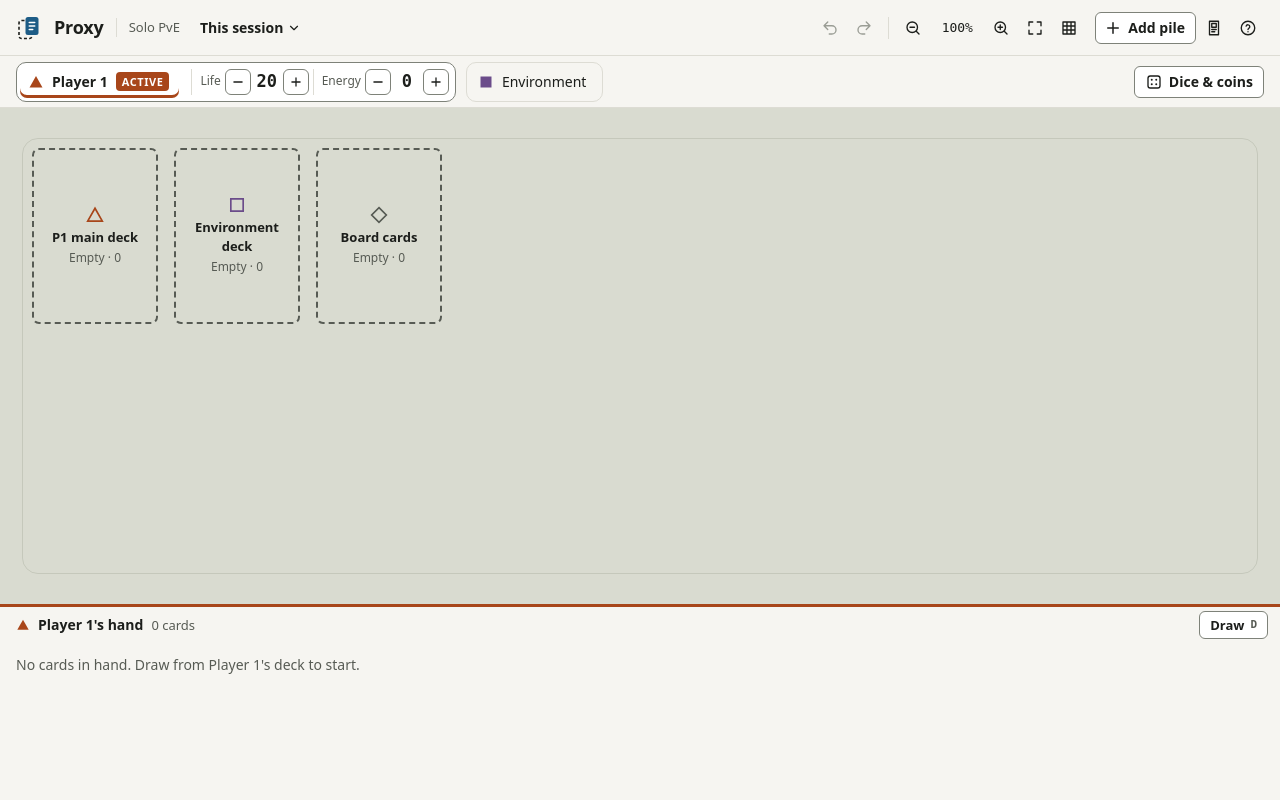
Test: FS-2 opening the Formats screen › Edit formats… opens it, and Back to New session returns to the dialog on the same choice
Click the button "This session": coordinates (251, 28) [192,12,310,44]
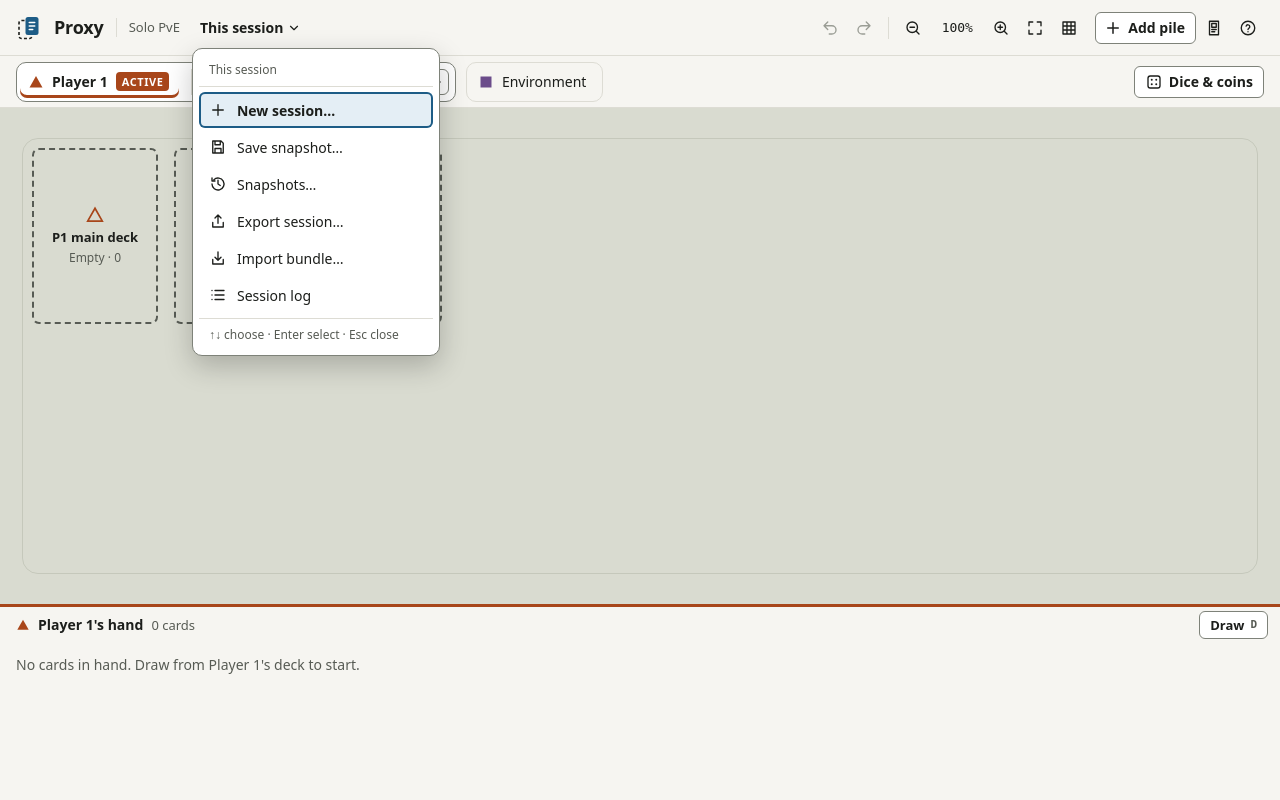
Click the menu item "New session…": coordinates (316, 110) [199,92,433,128]
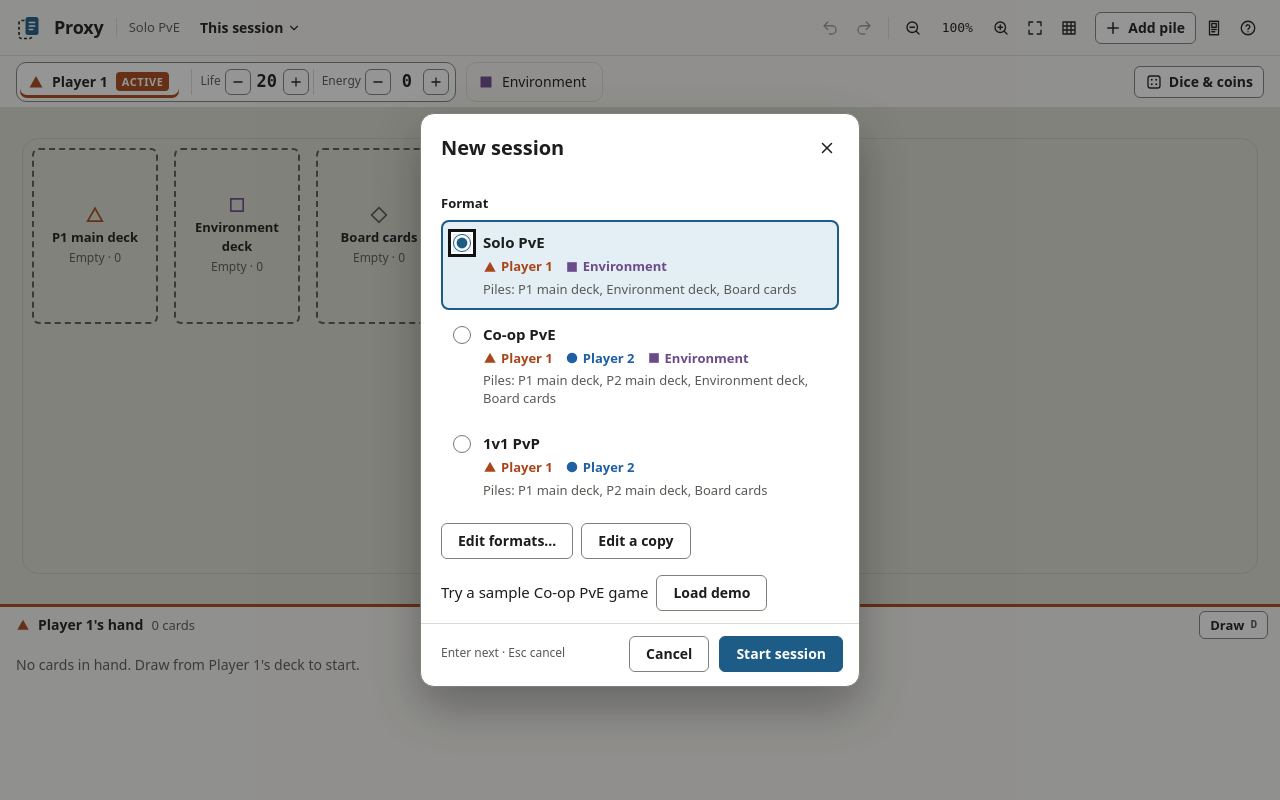
Click the radio button labelled "Co-op PvE": coordinates (462, 335) [453,326,471,344]
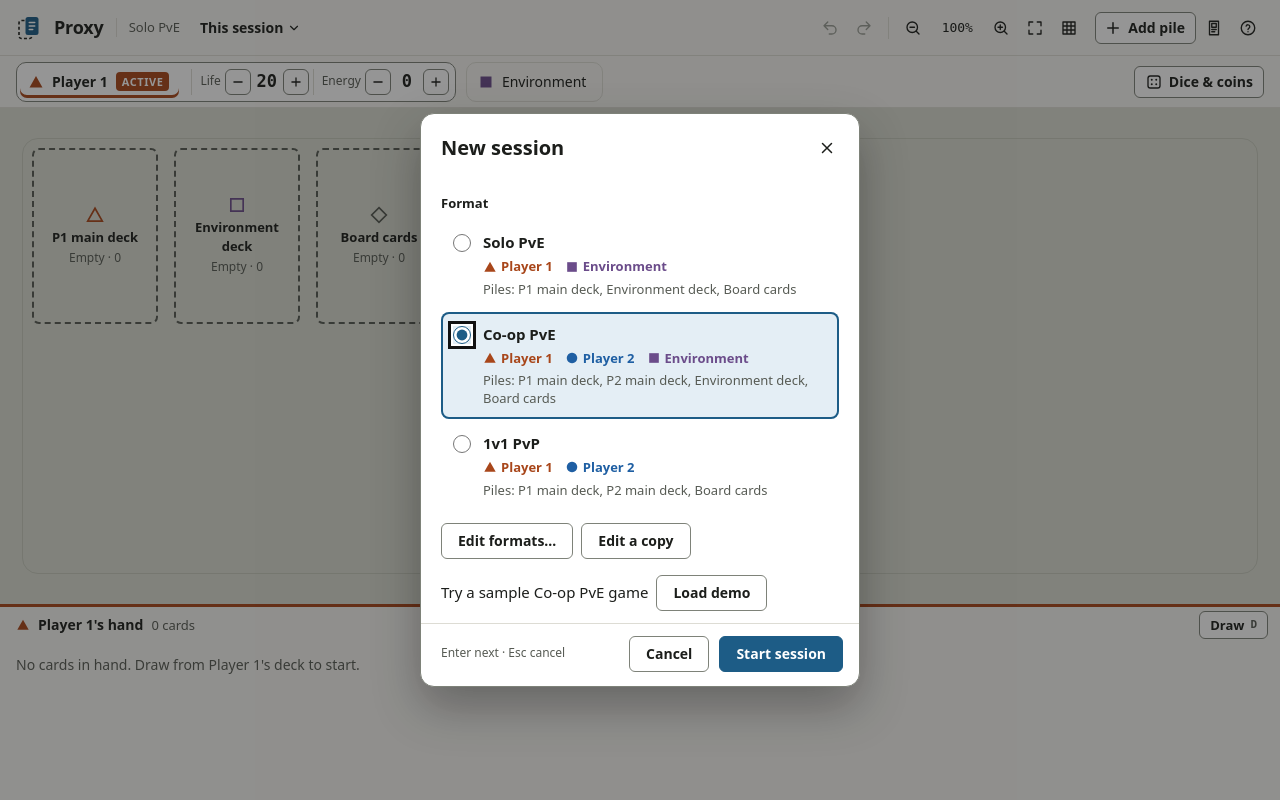
Click the button "Edit formats…": coordinates (507, 541) [441,523,573,559]
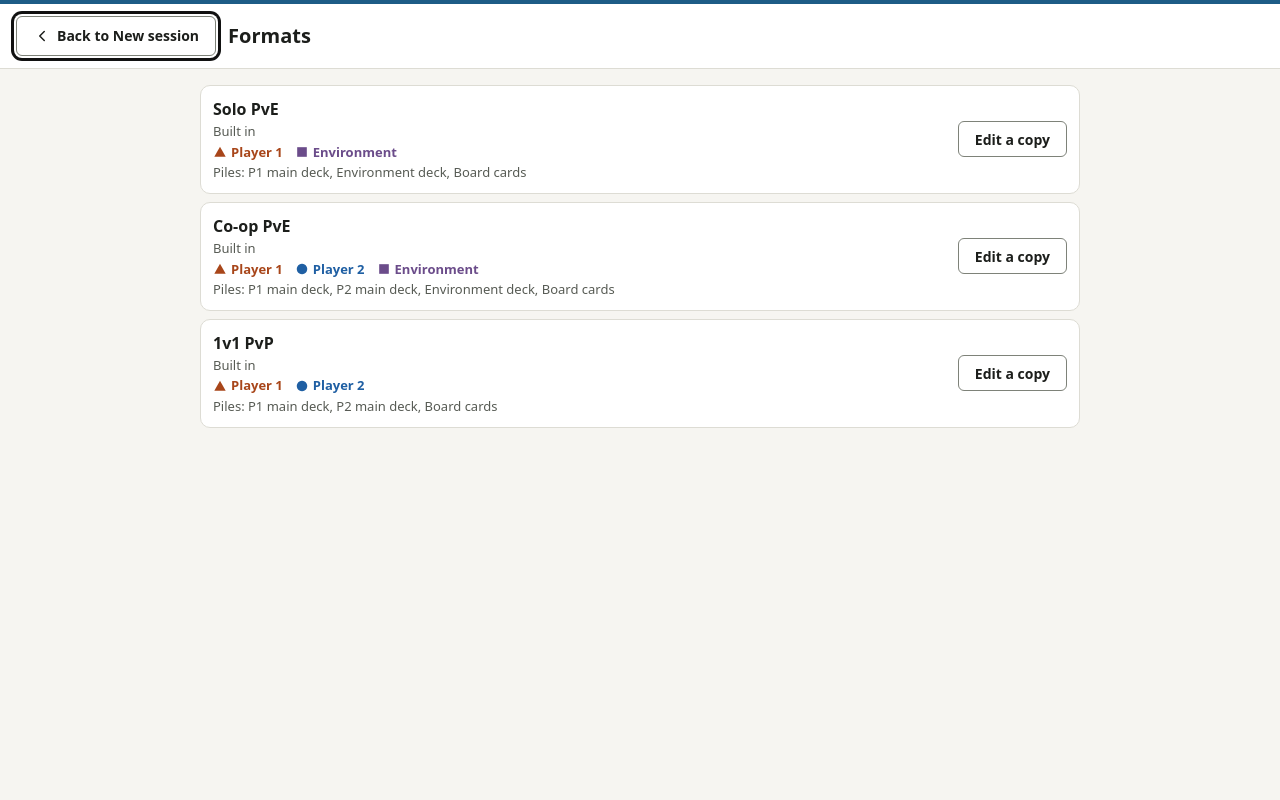
Now the dialog "Formats" is shown
Click the button "Back to New session": coordinates (116, 36) [16,16,216,56]
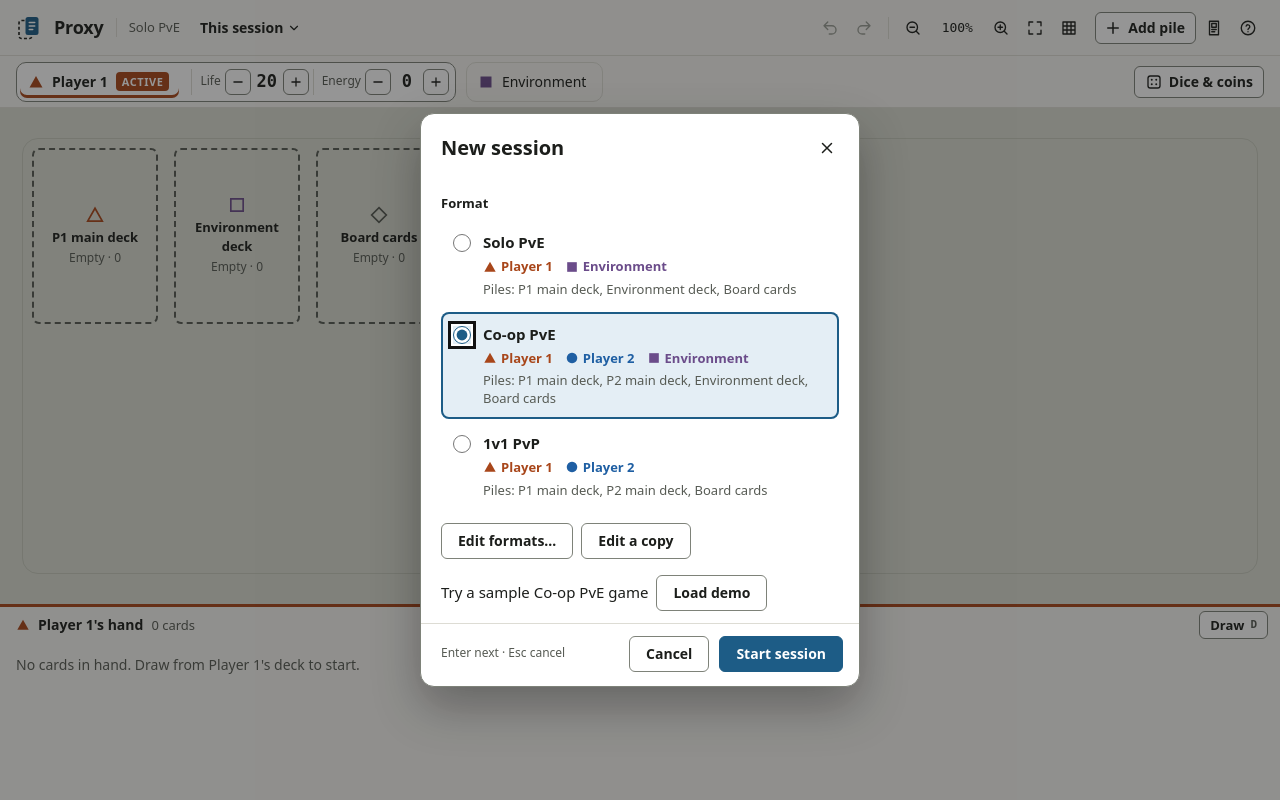
Now the dialog "New session" is shown, box [420,113,860,687]
Now the radio button labelled "Co-op PvE" is checked, box [453,326,471,344]
